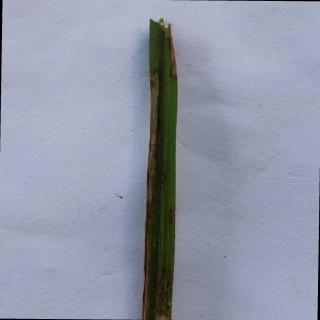Hawar-Daun: (150, 74, 163, 210), (144, 239, 150, 320), (168, 42, 177, 76), (155, 305, 173, 320)
